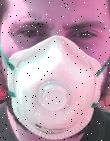with_mask: (1, 2, 110, 141)
